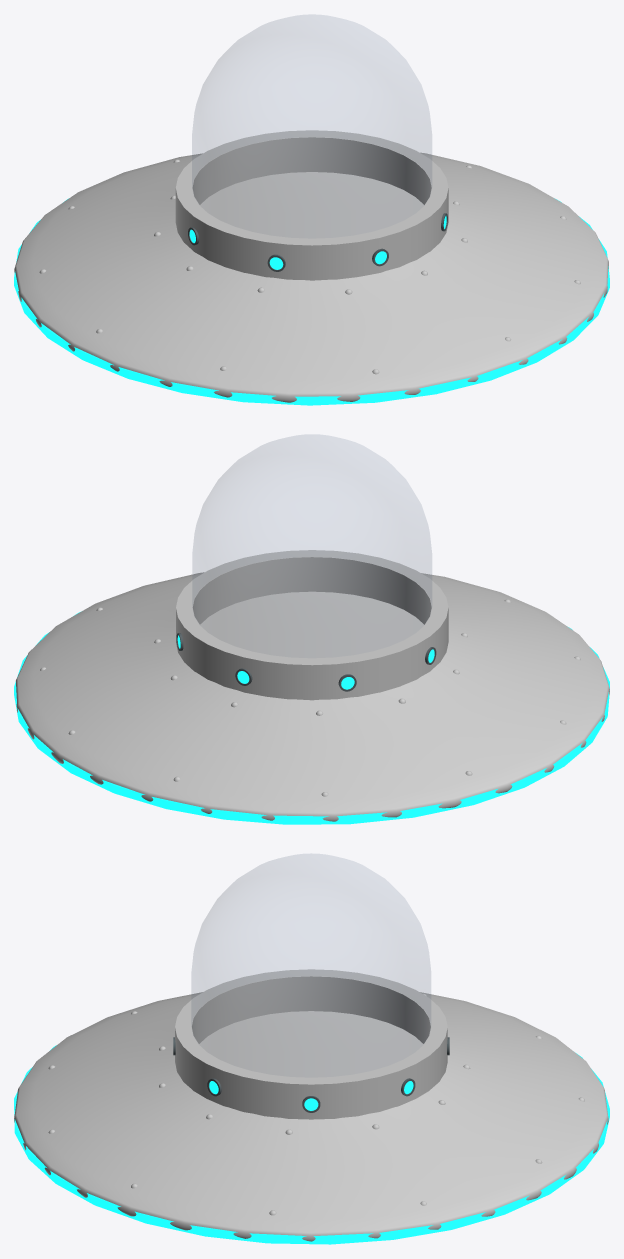
The model's file is UFO_1.fbx.
3 renders of one model, top to bottom at view 1: azimuth 30°, elevation 25°; view 2: azimuth 150°, elevation 25°; view 3: azimuth 270°, elevation 25°, orthographic.
Visible parts, largest first — view 1: Loft_2, Capsule, Tube, Шапка_1_2, Loft, Шапка_1; view 2: Loft_2, Capsule, Tube, Шапка_1_2, Loft, Шапка_1; view 3: Loft_2, Capsule, Tube, Шапка_1_2, Loft, Шапка_1.
Boxes of the visible parts, <box> form: Loft_2: <box>14,152,608,402</box>; Capsule: <box>192,14,431,186</box>; Tube: <box>175,130,448,280</box>; Шапка_1_2: <box>200,172,424,238</box>; Loft: <box>14,278,609,405</box>; Шапка_1: <box>14,198,609,397</box>; Loft_2: <box>16,572,609,821</box>; Capsule: <box>192,434,431,604</box>; Tube: <box>176,550,448,700</box>; Шапка_1_2: <box>200,591,423,657</box>; Loft: <box>14,683,609,824</box>; Шапка_1: <box>14,612,609,816</box>; Loft_2: <box>14,992,608,1241</box>; Capsule: <box>191,853,430,1023</box>; Tube: <box>175,969,447,1119</box>; Шапка_1_2: <box>199,1011,423,1077</box>; Loft: <box>14,1102,609,1244</box>; Шапка_1: <box>14,1045,609,1236</box>.
Size of the model in its own units: 462 by 267 by 462.
